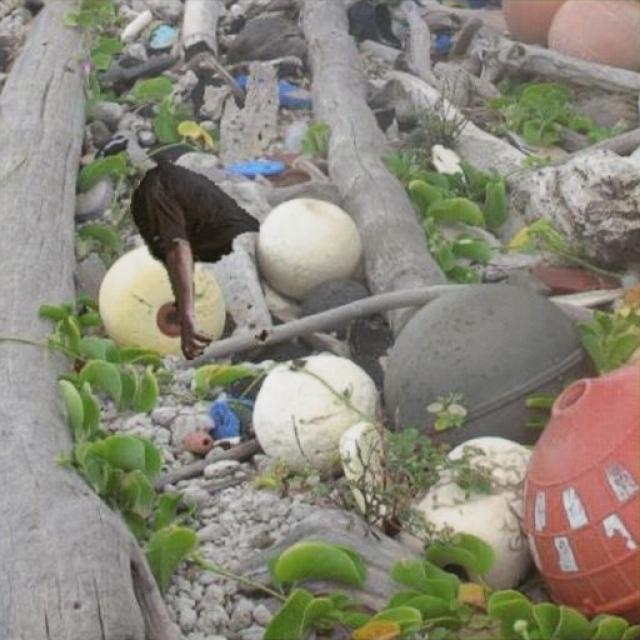Person in Rubble: (130, 160, 271, 359)
